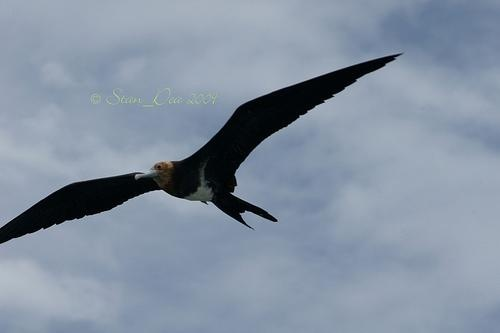bird: (1, 51, 402, 246)
